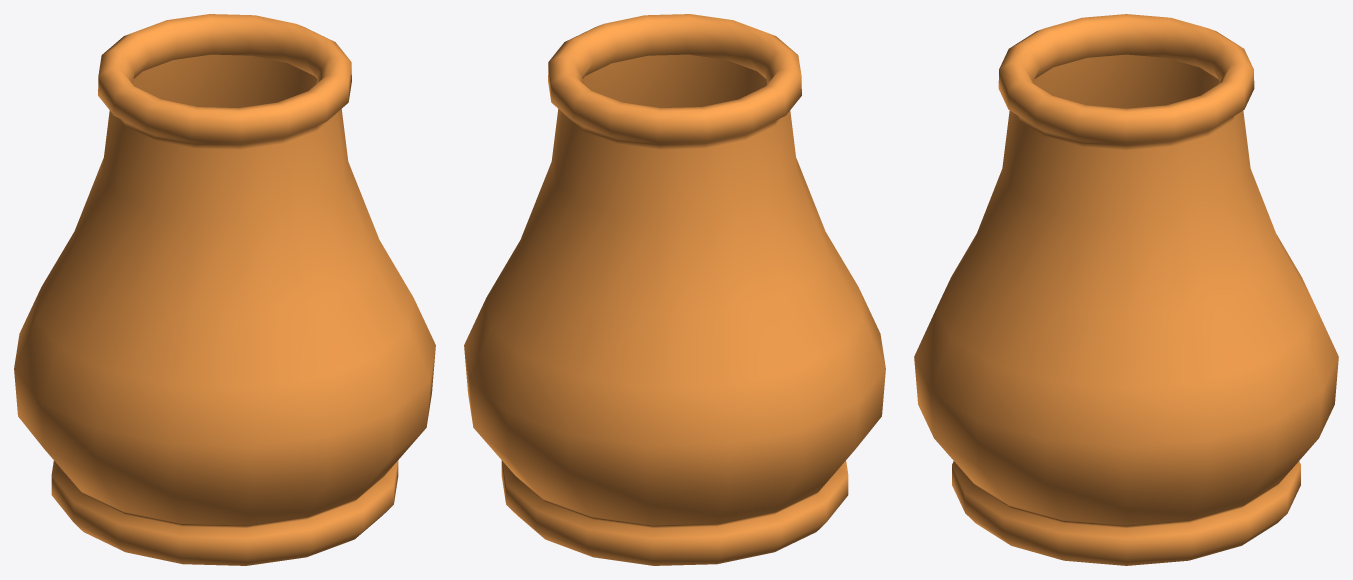
The model's file is Vase2.fbx.
3 renders of one model, left to right at view 1: azimuth 30°, elevation 25°; view 2: azimuth 150°, elevation 25°; view 3: azimuth 270°, elevation 25°, orthographic.
Visible parts, largest first — view 1: BezierCurve.006; view 2: BezierCurve.006; view 3: BezierCurve.006.
Part boxes in pixels (x1,y1,x2,y2): BezierCurve.006: [14, 14, 435, 565]; BezierCurve.006: [464, 14, 885, 565]; BezierCurve.006: [914, 14, 1338, 565].
Bounding box in the file's own units: 292 × 329 × 292.
